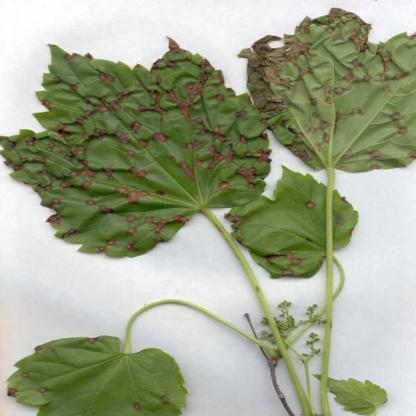grape leaf black rot: (1, 32, 269, 260), (238, 7, 415, 172), (225, 165, 361, 288), (3, 331, 193, 415)
